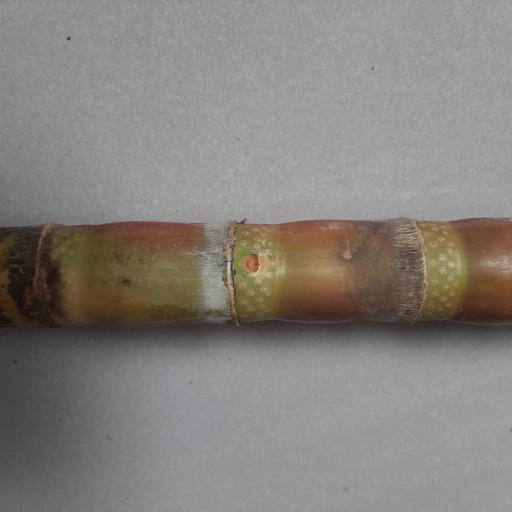Damage_Bud: (239, 252, 260, 276)
